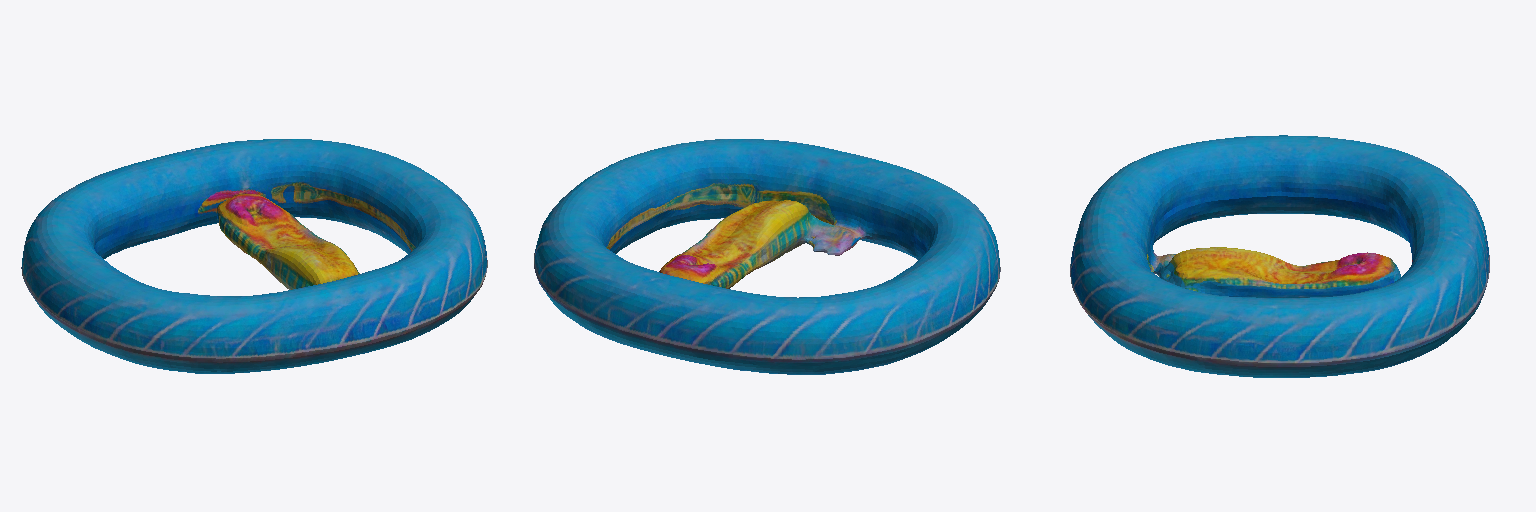
3 views of the same model, side by side, from view 1: azimuth 30°, elevation 25°; view 2: azimuth 150°, elevation 25°; view 3: azimuth 270°, elevation 25° (orthographic).
Parts seen in each view (by area): view 1: mesh; view 2: mesh; view 3: mesh.
Boxes of the visible parts, box(x1,y1,x2,y2) form: mesh: box(21, 139, 487, 373); mesh: box(534, 139, 1000, 374); mesh: box(1070, 135, 1489, 377).
Bounding box in the file's own units: 0.9998 × 0.1675 × 0.9004.
1 materials, 1 textured.